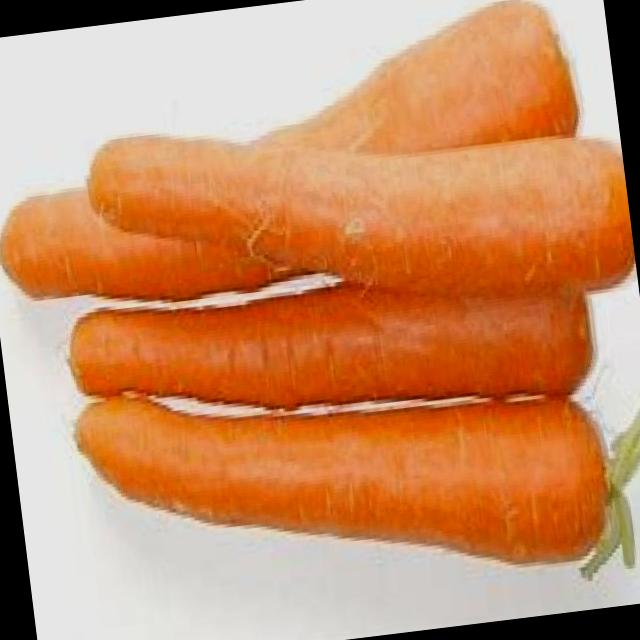carrot: (74, 392, 604, 574), (85, 134, 634, 299), (80, 273, 588, 407)
